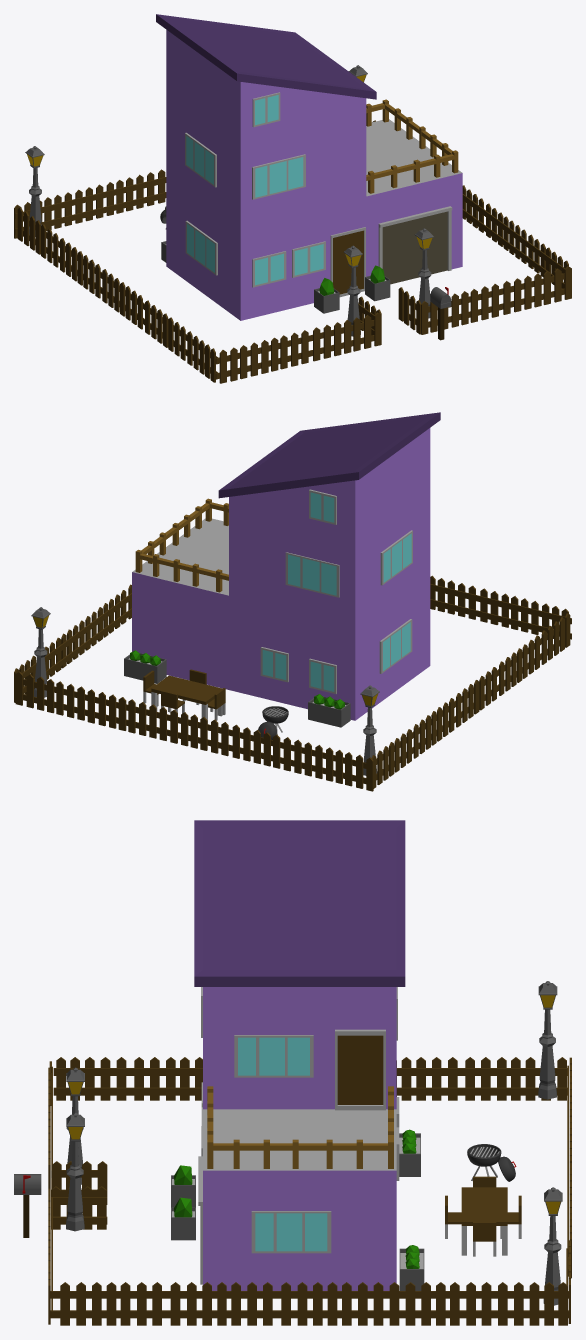
File: eee1.fbx
The picture shows the model from 3 angles, top to bottom: view 1: azimuth 30°, elevation 25°; view 2: azimuth 150°, elevation 25°; view 3: azimuth 270°, elevation 25°; orthographic projection. The views are drawn at different scales.
Visible parts, largest first — view 1: eee1; view 2: eee1; view 3: eee1.
Part boxes in pixels (x1,y1,x2,y2): eee1: (14,14,571,383); eee1: (14,412,571,791); eee1: (14,820,571,1325).
Size of the model in its own units: 25.08 by 16.93 by 26.01.
